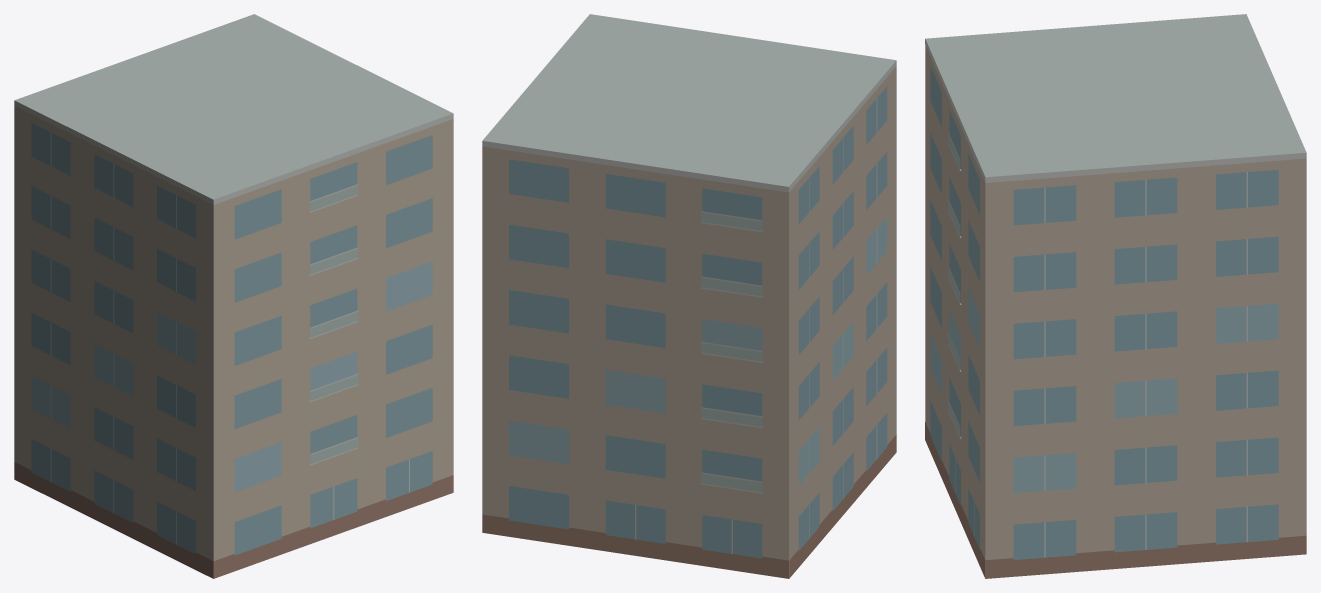
Rendered from survey-upis-32738224.glb.
The picture shows the model from 3 angles, left to right: view 1: azimuth 30°, elevation 25°; view 2: azimuth 150°, elevation 25°; view 3: azimuth 270°, elevation 25°; orthographic projection. The views are drawn at different scales.
Visible parts, largest first — view 1: survey-upis-32738224.tmp; view 2: survey-upis-32738224.tmp; view 3: survey-upis-32738224.tmp.
Boxes of the visible parts, bbox=[...] form: survey-upis-32738224.tmp: bbox=[14, 14, 453, 578]; survey-upis-32738224.tmp: bbox=[482, 14, 896, 578]; survey-upis-32738224.tmp: bbox=[925, 14, 1306, 578].
Bounding box in the file's own units: 14.84 × 17 × 14.64.
